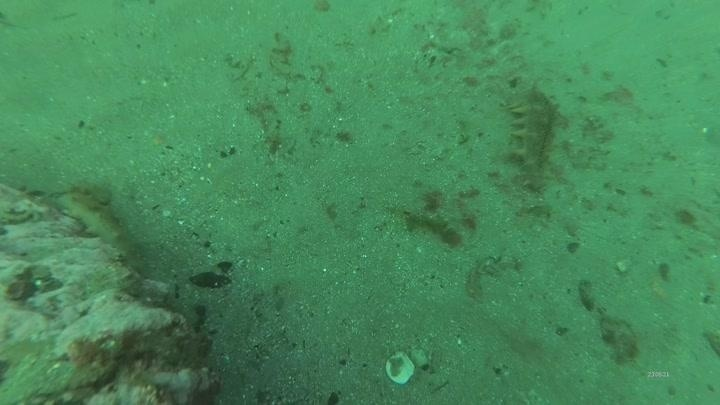holothurian: (54, 180, 150, 285), (505, 80, 561, 195)
